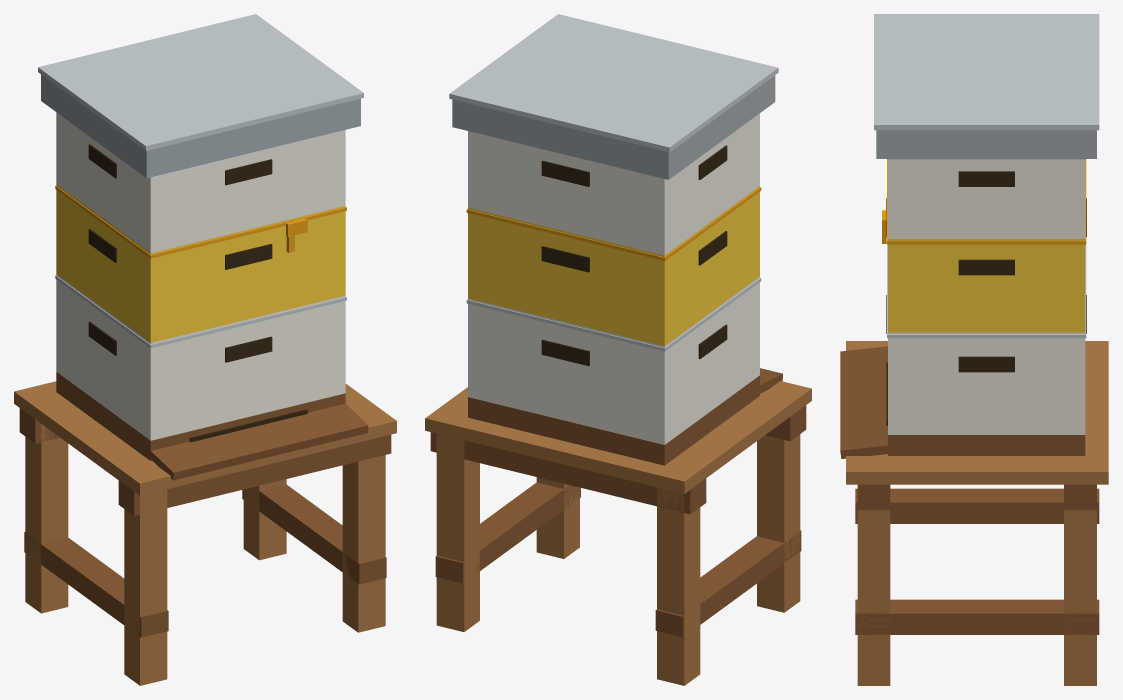
Rendered from apiary.glb.
3 views of the same model, side by side, from view 1: azimuth 30°, elevation 25°; view 2: azimuth 150°, elevation 25°; view 3: azimuth 270°, elevation 25° (orthographic). The views are drawn at different scales.
Visible parts, largest first — view 1: apiary; view 2: apiary; view 3: apiary.
Boxes of the visible parts, left/top/right/bottom form: apiary: left=14, top=14, right=396, bottom=685; apiary: left=425, top=14, right=811, bottom=685; apiary: left=840, top=14, right=1108, bottom=685.
Bounding box in the file's own units: 0.66 × 1.3 × 0.5719.
